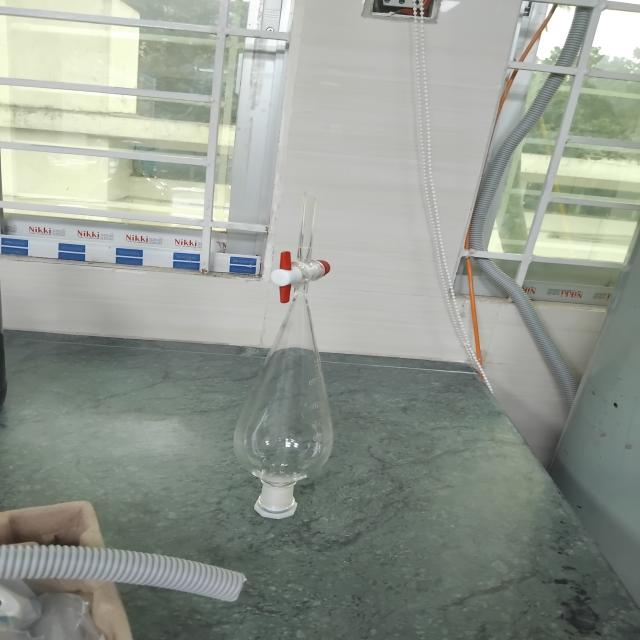Separating_Funnel: (217, 182, 369, 546)
